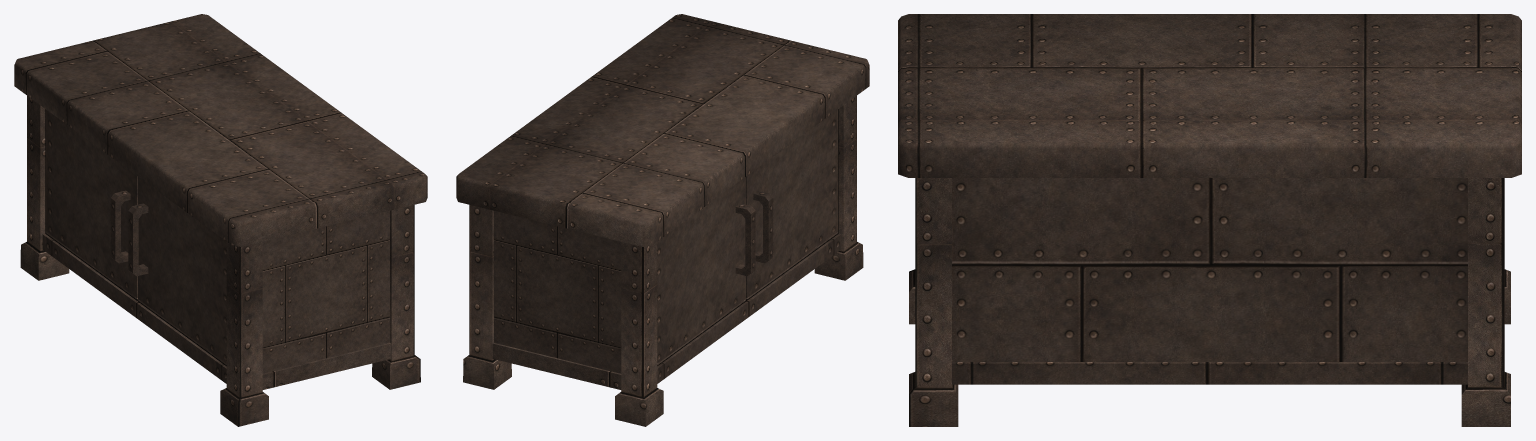
File: Bedroom_Coffer_Metal.fbx
3 renders of one model, left to right at view 1: azimuth 30°, elevation 25°; view 2: azimuth 150°, elevation 25°; view 3: azimuth 270°, elevation 25°, orthographic. The views are drawn at different scales.
Parts seen in each view (by area): view 1: Bedroom_Coffer_Metal; view 2: Bedroom_Coffer_Metal; view 3: Bedroom_Coffer_Metal.
Boxes of the visible parts, <box> form: Bedroom_Coffer_Metal: <box>14,14,427,426</box>; Bedroom_Coffer_Metal: <box>456,14,869,426</box>; Bedroom_Coffer_Metal: <box>898,14,1521,426</box>.
Bounding box in the file's own units: 58.22 × 58.5 × 115.
